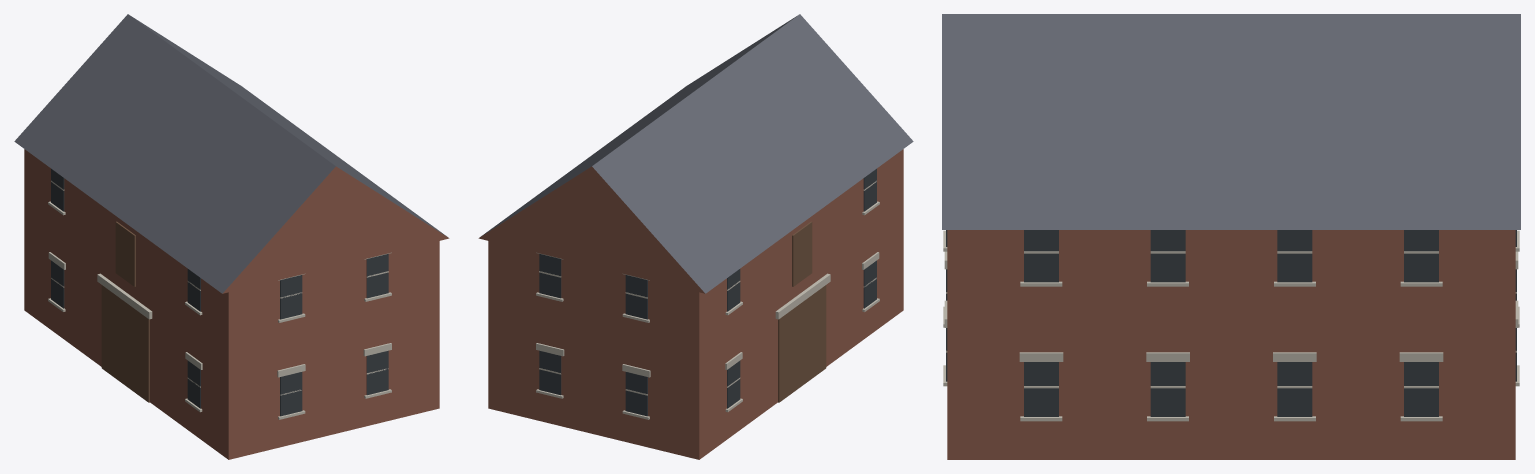
Rendered from robbins_house_2126_prairie_coach_house__draft_1904.glb.
3 renders of one model, left to right at view 1: azimuth 30°, elevation 25°; view 2: azimuth 150°, elevation 25°; view 3: azimuth 270°, elevation 25°, orthographic. The views are drawn at different scales.
Parts seen in each view (by area): view 1: robbins_house_2126_prairie_coach_house__draft_1904; view 2: robbins_house_2126_prairie_coach_house__draft_1904; view 3: robbins_house_2126_prairie_coach_house__draft_1904.
Part boxes in pixels (x1,y1,x2,y2): robbins_house_2126_prairie_coach_house__draft_1904: (14,14,449,459); robbins_house_2126_prairie_coach_house__draft_1904: (478,14,913,459); robbins_house_2126_prairie_coach_house__draft_1904: (942,14,1520,459).
Bounding box in the file's own units: 8.35 × 9.45 × 13.24.
